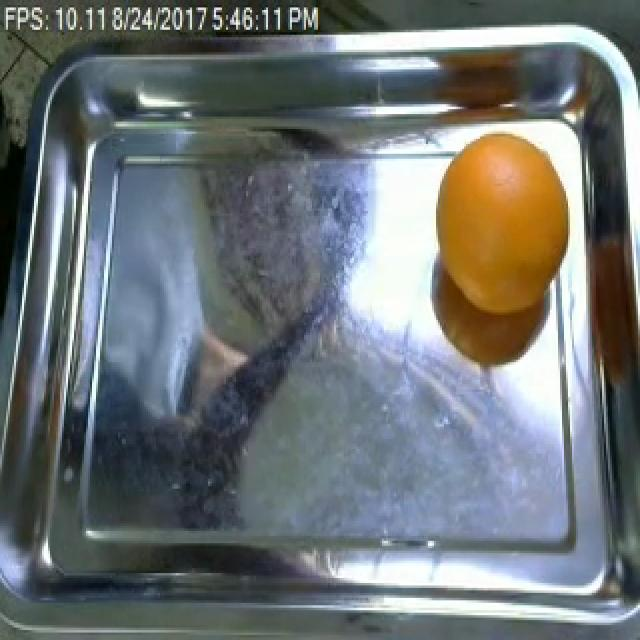Fruit: (424, 124, 572, 370)
